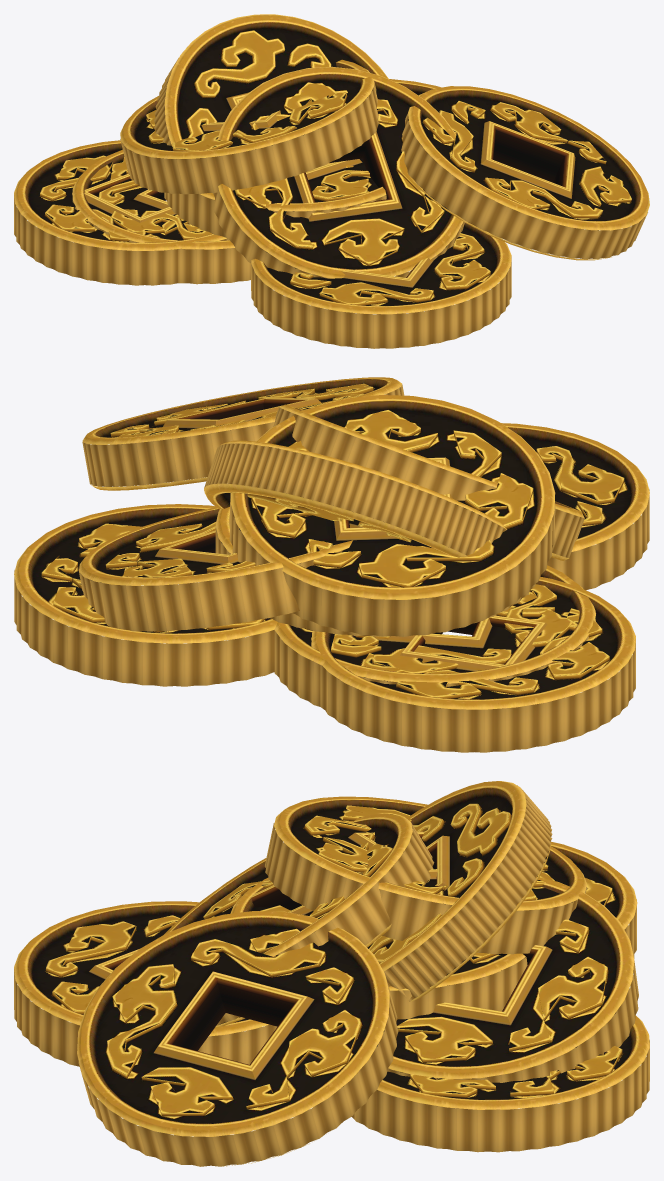
Rendered from yeop_coin.ff1e3893.glb.
The picture shows the model from 3 angles, top to bottom: view 1: azimuth 30°, elevation 25°; view 2: azimuth 150°, elevation 25°; view 3: azimuth 270°, elevation 25°; orthographic projection. The views are drawn at different scales.
Visible parts, largest first — view 1: yeop_t2, yeop_t1, yeop_t0; view 2: yeop_t2, yeop_t1, yeop_t0; view 3: yeop_t2, yeop_t1, yeop_t0.
Boxes of the visible parts, bbox=[...] form: yeop_t2: bbox=[14, 59, 649, 348]; yeop_t1: bbox=[72, 66, 464, 284]; yeop_t0: bbox=[154, 14, 388, 195]; yeop_t2: bbox=[14, 377, 649, 752]; yeop_t1: bbox=[78, 404, 595, 709]; yeop_t0: bbox=[204, 440, 506, 575]; yeop_t2: bbox=[14, 796, 649, 1166]; yeop_t1: bbox=[164, 813, 638, 1109]; yeop_t0: bbox=[367, 781, 552, 1001].
Bounding box in the file's own units: 0.894 × 0.2898 × 0.7954.
1 material, 1 textured.
